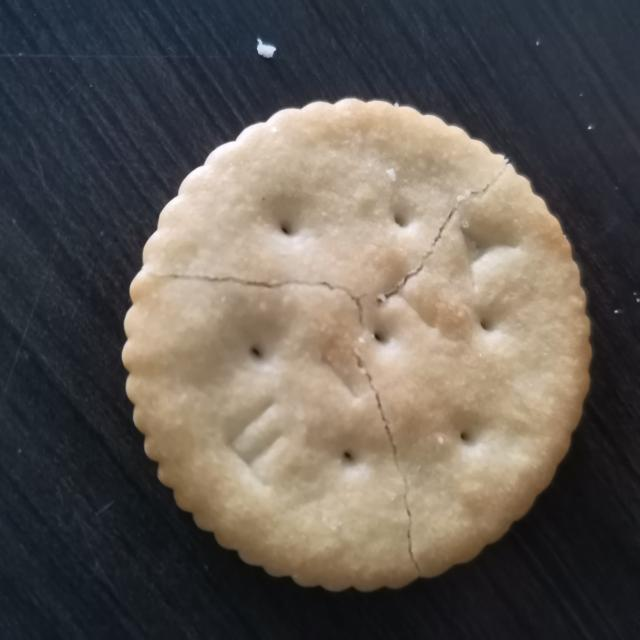Fracture: (137, 156, 509, 590)
